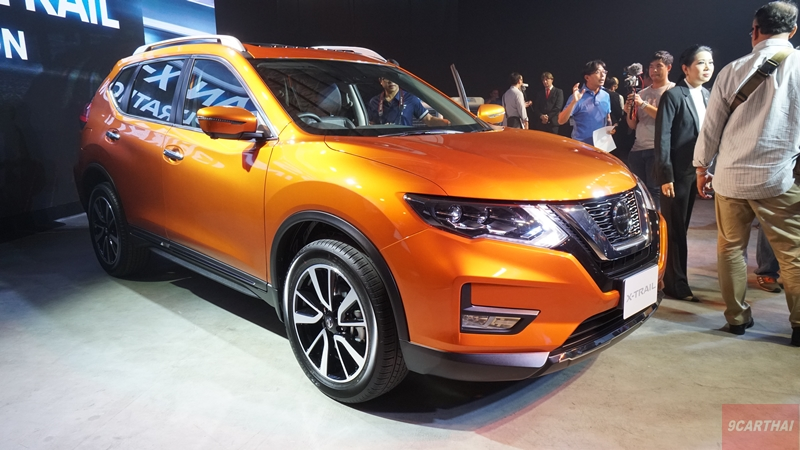pickup: (75, 34, 670, 409)
